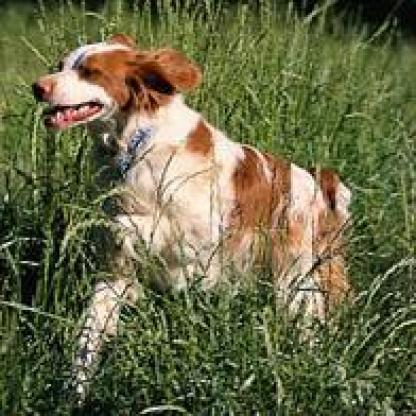Brittany_spaniel: (26, 26, 354, 404)
